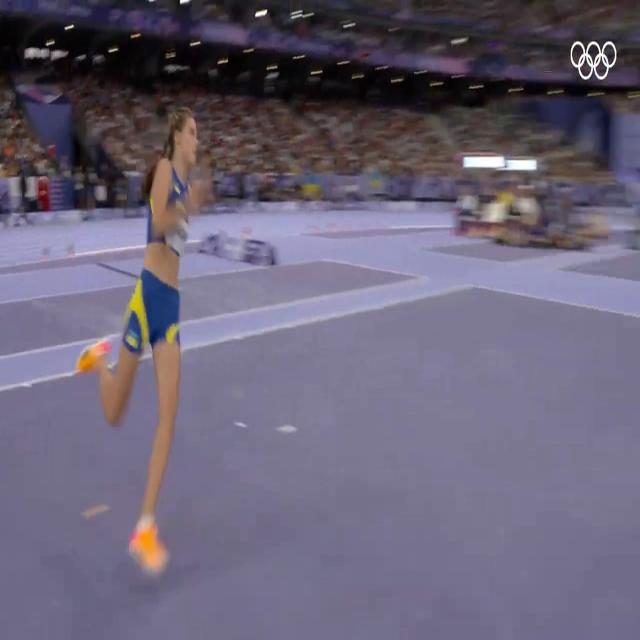run: (75, 105, 209, 580)
